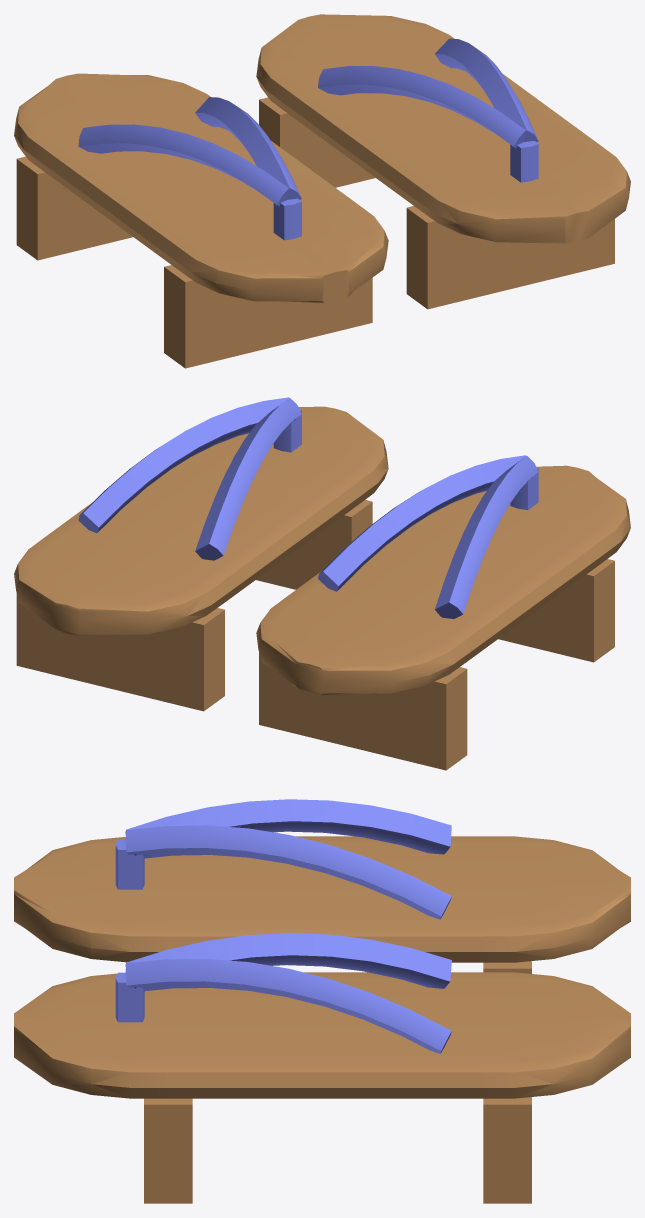
File: geta.mid.glb
3 renders of one model, top to bottom at view 1: azimuth 30°, elevation 25°; view 2: azimuth 150°, elevation 25°; view 3: azimuth 270°, elevation 25°, orthographic. The views are drawn at different scales.
Parts seen in each view (by area): view 1: geta; view 2: geta; view 3: geta.
Boxes of the visible parts, <box> form: geta: <box>14,14,630,368</box>; geta: <box>14,397,630,770</box>; geta: <box>14,799,630,1203</box>.
Bounding box in the file's own units: 0.2345 × 0.0914 × 0.2537.
